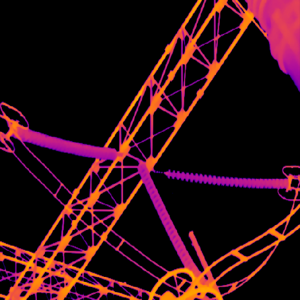insulator: (135, 160, 200, 278), (8, 119, 118, 161), (163, 164, 289, 190)
